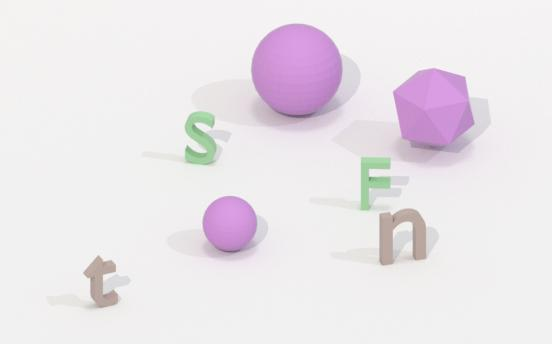F: (355, 152, 400, 211)
cau: (242, 23, 349, 118), (199, 194, 261, 254)
dagiac: (386, 70, 482, 146)
n: (375, 206, 431, 268)
s: (178, 110, 223, 168)
t: (82, 253, 129, 310)
